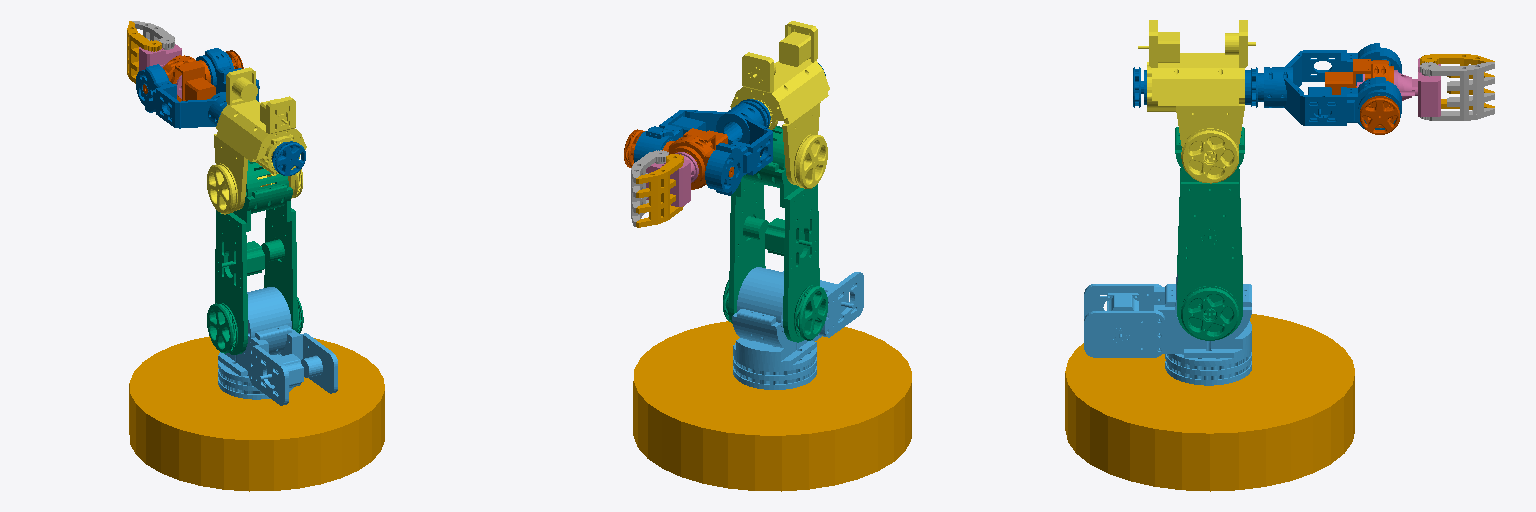
The robot description file, URDF, robot "robot_arm":
<?xml version="1.0" ?>
<!-- =================================================================================== -->
<!-- |    This document was autogenerated by xacro from [local-path]/maven_ws/src/robot_arm_description/urdf/urdf_assembly.xacro | -->
<!-- |    EDITING THIS FILE BY HAND IS NOT RECOMMENDED                                 | -->
<!-- =================================================================================== -->
<robot name="robot_arm">
    
    <link name="base_link">
        
        <visual>
            <origin rpy="0 0 0" xyz="0 0 0" />
            <geometry>
                 <cylinder length="0.11" radius="0.25"/>
            </geometry>
            <material name="silver" />
        </visual>
    </link>
    <link name="link_1_1">
        <inertial>
            <origin rpy="0 0 0" xyz="0 0 0.024001498636141927" />
            <mass value="2.030739431813925" />
            <inertia ixx="0.014477" ixy="-0.000145" ixz="1.6e-05" iyy="0.006803" iyz="0.000726" izz="0.0131" />
        </inertial>
        <visual>
            <origin rpy="0 0 0" xyz="0 0 -0.117341" />
            <geometry>
                <mesh filename="package://robot_arm_description/meshes/link_1_1.stl" scale="0.001 0.001 0.001" />
            </geometry>
            <material name="silver" />
        </visual>
        <collision>
            <origin rpy="0 0 0" xyz="0 0 -0.117341" />
            <geometry>
                <mesh filename="package://robot_arm_description/meshes/link_1_1.stl" scale="0.001 0.001 0.001" />
            </geometry>
        </collision>
    </link>
    <link name="link_2_1">
        <inertial>
            <origin rpy="0 0 0" xyz="0 0 0.13687546860146899" />
            <mass value="1.6626610036452254" />
            <inertia ixx="0.024251" ixy="0.0" ixz="-2.6e-05" iyy="0.026584" iyz="7e-06" izz="0.005086" />
        </inertial>
        <visual>
            <origin rpy="0 0 0" xyz="0 0.002 -0.199341" />
            <geometry>
                <mesh filename="package://robot_arm_description/meshes/link_2_1.stl" scale="0.001 0.001 0.001" />
            </geometry>
            <material name="silver" />
        </visual>
        <collision>
            <origin rpy="0 0 0" xyz="0 0 -0.199341" />
            <geometry>
                <mesh filename="package://robot_arm_description/meshes/link_2_1.stl" scale="0.001 0.001 0.001" />
            </geometry>
        </collision>
    </link>
    <link name="link_3_1">
        <inertial>
            <origin rpy="0 0 0" xyz="0 -0.016283006892585307 0.07497937866412202" />
            <mass value="9.121346283290384" />
            <inertia ixx="0.063998" ixy="2.5e-05" ixz="-0.000107" iyy="0.062586" iyz="0.007821" izz="0.038355" />
        </inertial>
        <visual>
            <origin rpy="0 0 0" xyz="0 0.002793 -0.498507" />
            <geometry>
                <mesh filename="package://robot_arm_description/meshes/link_3_1.stl" scale="0.001 0.001 0.001" />
            </geometry>
            <material name="silver" />
        </visual>
        <collision>
            <origin rpy="0 0 0" xyz="0 0.002793 -0.498507" />
            <geometry>
                <mesh filename="package://robot_arm_description/meshes/link_3_1.stl" scale="0.001 0.001 0.001" />
            </geometry>
        </collision>
    </link>
    <link name="link_4_1">
        <inertial>
            <origin rpy="0 0 0" xyz="0.005513953778460314 0.2625680653929481 4.057984306360396e-06" />
            <mass value="7.5787166188185005" />
            <inertia ixx="0.126085" ixy="-0.000913" ixz="-2e-06" iyy="0.027107" iyz="-1e-06" izz="0.147683" />
        </inertial>
        <visual>
            <origin rpy="0 0 0" xyz="0.002859 0.112793 -0.596394" />
            <geometry>
                <mesh filename="package://robot_arm_description/meshes/link_4_1.stl" scale="0.001 0.001 0.001" />
            </geometry>
            <material name="silver" />
        </visual>
        <collision>
            <origin rpy="0 0 0" xyz="0.002859 0.112793 -0.596394" />
            <geometry>
                <mesh filename="package://robot_arm_description/meshes/link_4_1.stl" scale="0.001 0.001 0.001" />
            </geometry>
        </collision>
    </link>
    <link name="link_5_1">
        <inertial>
            <origin rpy="0 0 0" xyz="-0.07848672877351807 -0.01878037329851351 1.0025048180262175e-05" />
            <mass value="3.0872435381050845" />
            <inertia ixx="0.004619" ixy="-0.001102" ixz="0.0" iyy="0.008205" iyz="2e-06" izz="0.009933" />
        </inertial>
        <visual>
            <origin rpy="0 0 0" xyz="-0.094641 -0.289485 -0.596394" />
            <geometry>
                <mesh filename="package://robot_arm_description/meshes/link_5_1.stl" scale="0.001 0.001 0.001" />
            </geometry>
            <material name="silver" />
        </visual>
        <collision>
            <origin rpy="0 0 0" xyz="-0.094641 -0.289485 -0.596394" />
            <geometry>
                <mesh filename="package://robot_arm_description/meshes/link_5_1.stl" scale="0.001 0.001 0.001" />
            </geometry>
        </collision>
    </link>
    <link name="link_6_1">
        <inertial>
            <origin rpy="0 0 0" xyz="-0.0006916944165798809 0.03632808398557291 -0.0013926003723436775" />
            <mass value="2.637875841155386" />
            <inertia ixx="0.004764" ixy="4.3e-05" ixz="6.9e-05" iyy="0.001978" iyz="8.7e-05" izz="0.004912" />
        </inertial>
        <visual>
            <origin rpy="0 0 0" xyz="0.002859 -0.314485 -0.596394" />
            <geometry>
                <mesh filename="package://robot_arm_description/meshes/link_6_1.stl" scale="0.001 0.001 0.001" />
            </geometry>
            <material name="silver" />
        </visual>
        <collision>
            <origin rpy="0 0 0" xyz="0.002859 -0.314485 -0.596394" />
            <geometry>
                <mesh filename="package://robot_arm_description/meshes/link_6_1.stl" scale="0.001 0.001 0.001" />
            </geometry>
        </collision>
    </link>
    <link name="link_7_1">
        <inertial>
            <origin rpy="0 0 0" xyz="0.005289159325895416 0.05604353410292273 -0.03427022222823228" />
            <mass value="0.8308399781572773" />
            <inertia ixx="0.001677" ixy="5e-05" ixz="1e-06" iyy="0.000955" iyz="3e-06" izz="0.000833" />
        </inertial>
        <visual>
            <origin rpy="0 0 0" xyz="-0.01211 -0.374485 -0.630669" />
            <geometry>
                <mesh filename="package://robot_arm_description/meshes/link_7_1.stl" scale="0.001 0.001 0.001" />
            </geometry>
            <material name="silver" />
        </visual>
        <collision>
            <origin rpy="0 0 0" xyz="-0.01211 -0.374485 -0.630669" />
            <geometry>
                <mesh filename="package://robot_arm_description/meshes/link_7_1.stl" scale="0.001 0.001 0.001" />
            </geometry>
        </collision>
    </link>
    <link name="link_8_1">
        <inertial>
            <origin rpy="0 0 0" xyz="-0.0054920854200500475 0.05617084434859132 -0.03817503247390952" />
            <mass value="0.8293395046016687" />
            <inertia ixx="0.001672" ixy="-4.8e-05" ixz="-1e-06" iyy="0.000956" iyz="-0.0" izz="0.000827" />
        </inertial>
        <visual>
            <origin rpy="0 0 0" xyz="0.01809 -0.374485 -0.634569" />
            <geometry>
                <mesh filename="package://robot_arm_description/meshes/link_8_1.stl" scale="0.001 0.001 0.001" />
            </geometry>
            <material name="silver" />
        </visual>
        <collision>
            <origin rpy="0 0 0" xyz="0.01809 -0.374485 -0.634569" />
            <geometry>
                <mesh filename="package://robot_arm_description/meshes/link_8_1.stl" scale="0.001 0.001 0.001" />
            </geometry>
        </collision>
    </link>

    <joint name="joint_1" type="revolute">
        <origin rpy="0 0 0" xyz="0 0 0.117341" />
        <parent link="base_link" />
        <child link="link_1_1" />
        <axis xyz="-0.0 -0.0 1.0" />
    </joint>
    <joint name="joint_2" type="revolute">
        <origin rpy="0 0 0" xyz="0 0.0 0.082" />
        <parent link="link_1_1" />
        <child link="link_2_1" />
        <axis xyz="-1.0 -0.0 -0.0" />
        <limit effort="100" lower="-0.872665" upper="1.570796" velocity="100" />
    </joint>
    <joint name="joint_3" type="revolute">
        <origin rpy="0 0 0" xyz="0.0 0 0.299166" />
        <parent link="link_2_1" />
        <child link="link_3_1" />
        <axis xyz="1.0 0.0 0.0" />
        <limit effort="100" lower="-1.570796" upper="1.570796" velocity="100" />
    </joint>
    <joint name="joint_4" type="revolute">
        <origin rpy="0 0 0" xyz="0 -0.11 0.097887" />
        <parent link="link_3_1" />
        <child link="link_4_1" />
        <axis xyz="-0.0 1.0 -0.0" />
    </joint>
    <joint name="joint_5" type="revolute">
        <origin rpy="0 0 0" xyz="0.0975 0.402278 0.0" />
        <parent link="link_4_1" />
        <child link="link_5_1" />
        <axis xyz="1.0 0.0 0.0" />
        <limit effort="100" lower="-2.443461" upper="2.443461" velocity="100" />
    </joint>
    <joint name="joint_6" type="revolute">
        <origin rpy="0 0 0" xyz="-0.0975 0.025 0.0" />
        <parent link="link_5_1" />
        <child link="link_6_1" />
        <axis xyz="-0.0 1.0 0.0" />
    </joint>
    <joint name="joint_7" type="revolute">
        <origin rpy="0 0 0" xyz="0.014969 0.06 0.034275" />
        <parent link="link_6_1" />
        <child link="link_7_1" />
        <axis xyz="-0.0 -0.0 1.0" />
        <limit effort="100" lower="-1.570796" upper="0.0" velocity="100" />
    </joint>
    <joint name="joint_8" type="revolute">
        <origin rpy="0 0 0" xyz="-0.015231 0.06 0.038175" />
        <parent link="link_6_1" />
        <child link="link_8_1" />
        <axis xyz="-0.0 -0.0 1.0" />
        <limit effort="100" lower="0.0" upper="1.570796" velocity="100" />
    </joint>
</robot>

--- Facts derived from the render (not from the file) ---
Views: 3 orthographic renders of the robot side by side, from view 1: azimuth 30°, elevation 25°; view 2: azimuth 150°, elevation 25°; view 3: azimuth 270°, elevation 25°.
Robot: robot_arm — 9 links, 8 joints (8 revolute); root link base_link; default pose: every joint at zero.
Visible links, largest first — view 1: base_link, link_2_1, link_1_1, link_3_1, link_4_1, link_5_1, link_8_1, link_6_1, link_7_1; view 2: base_link, link_2_1, link_1_1, link_3_1, link_4_1, link_8_1, link_5_1, link_6_1, link_7_1; view 3: base_link, link_3_1, link_1_1, link_2_1, link_4_1, link_7_1, link_5_1, link_6_1, link_8_1.
Link boxes in pixels (<box>): base_link: <box>129,336,384,491</box>; link_2_1: <box>207,160,303,354</box>; link_1_1: <box>218,287,337,405</box>; link_3_1: <box>207,67,306,214</box>; link_4_1: <box>136,48,305,175</box>; link_5_1: <box>143,50,243,101</box>; link_8_1: <box>127,21,161,83</box>; link_6_1: <box>139,44,181,98</box>; link_7_1: <box>132,21,174,49</box>; base_link: <box>633,321,911,491</box>; link_2_1: <box>723,125,827,342</box>; link_1_1: <box>732,267,863,389</box>; link_3_1: <box>730,21,829,188</box>; link_4_1: <box>634,63,825,195</box>; link_8_1: <box>636,154,683,227</box>; link_5_1: <box>624,128,733,189</box>; link_6_1: <box>646,152,698,206</box>; link_7_1: <box>631,150,668,226</box>; base_link: <box>1065,314,1354,491</box>; link_3_1: <box>1138,20,1255,183</box>; link_1_1: <box>1084,274,1251,385</box>; link_2_1: <box>1175,127,1244,340</box>; link_4_1: <box>1133,43,1401,129</box>; link_7_1: <box>1420,62,1494,120</box>; link_5_1: <box>1325,59,1399,134</box>; link_6_1: <box>1357,58,1440,116</box>; link_8_1: <box>1420,54,1494,109</box>.
Bounding box of the posed robot: 0.5 × 0.74 × 0.7664 m (x, y, z).
8 mesh visuals loaded from 8 distinct referenced files (8 binary STL).